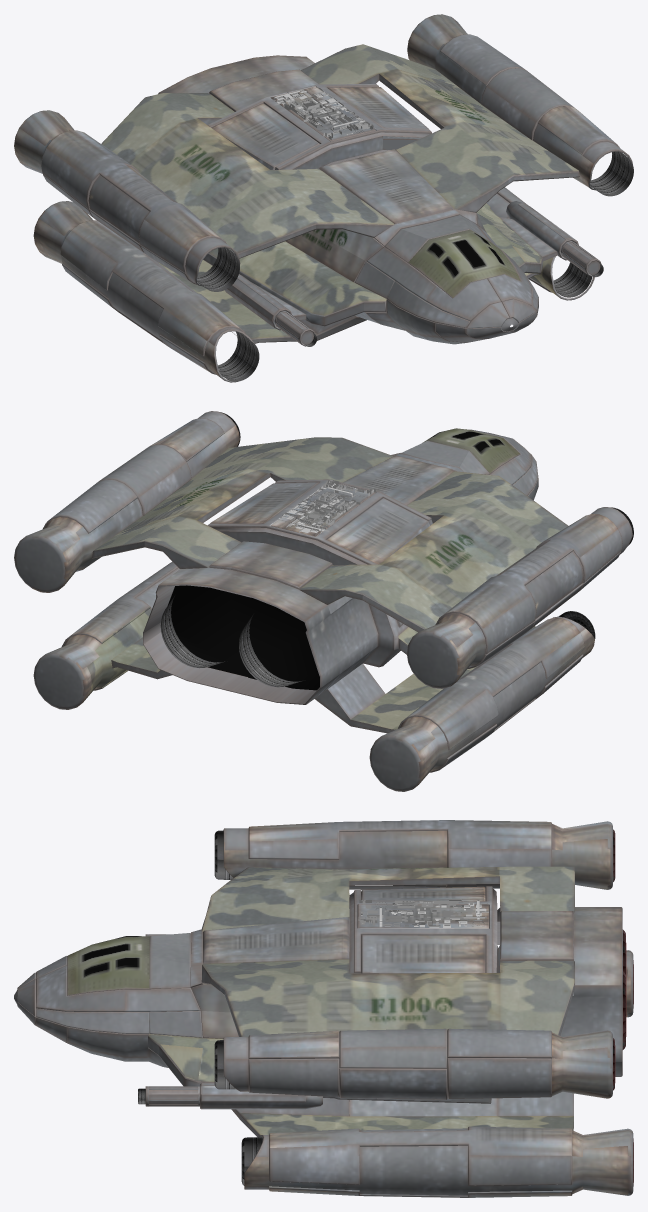
Rendered from orion.glb.
The picture shows the model from 3 angles, top to bottom: view 1: azimuth 30°, elevation 25°; view 2: azimuth 150°, elevation 25°; view 3: azimuth 270°, elevation 25°; orthographic projection. The views are drawn at different scales.
Visible parts, largest first — view 1: nave_entera, PANEL, turbina.2, turbina, turbina.3, turbina.1; view 2: nave_entera, PANEL, propulsor_trasero.1, propulsor_trasero; view 3: nave_entera, PANEL, turbina, turbina.1, turbina.3.
Boxes of the visible parts, x1=… form: nave_entera: x1=14, y1=14, x2=632, y2=382; PANEL: x1=271, y1=87, x2=373, y2=139; turbina.2: x1=217, y1=331, x2=259, y2=381; turbina: x1=590, y1=151, x2=633, y2=196; turbina.3: x1=197, y1=247, x2=239, y2=291; turbina.1: x1=553, y1=262, x2=592, y2=297; nave_entera: x1=14, y1=411, x2=632, y2=791; PANEL: x1=273, y1=479, x2=376, y2=535; propulsor_trasero.1: x1=239, y1=614, x2=301, y2=687; propulsor_trasero: x1=160, y1=596, x2=224, y2=668; nave_entera: x1=14, y1=820, x2=633, y2=1197; PANEL: x1=358, y1=899, x2=488, y2=927; turbina: x1=214, y1=1040, x2=235, y2=1089; turbina.1: x1=241, y1=1137, x2=262, y2=1185; turbina.3: x1=214, y1=830, x2=233, y2=879.
Bounding box in the file's own units: 253 × 95.61 × 277.
5 materials, 3 textured.
